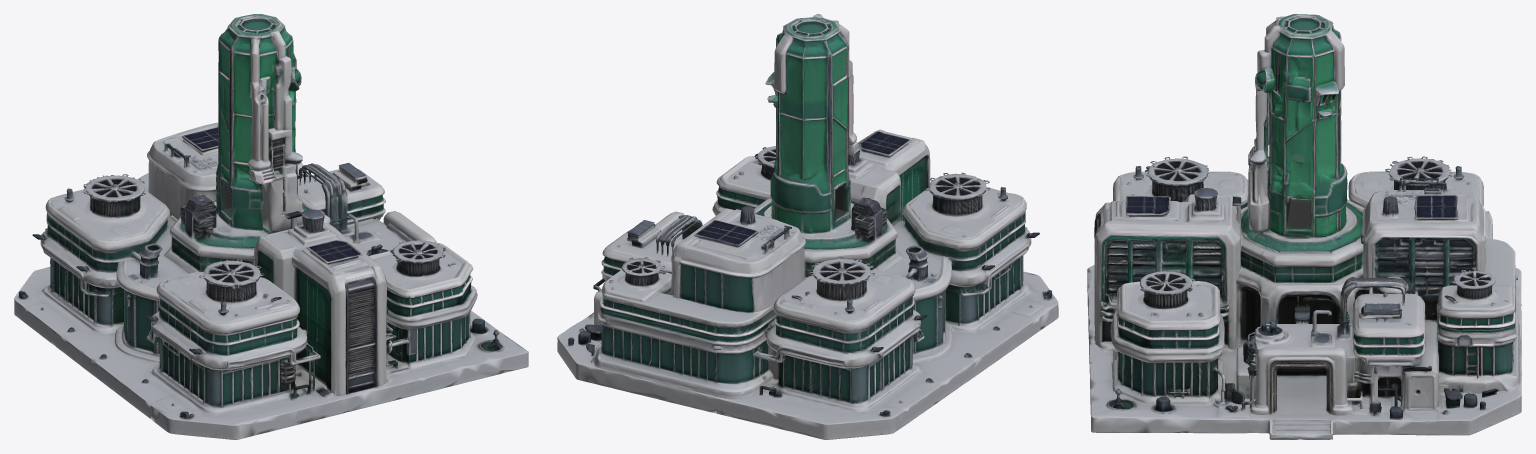
The model's file is closed-hq-web-v1.glb.
3 renders of one model, left to right at view 1: azimuth 30°, elevation 25°; view 2: azimuth 150°, elevation 25°; view 3: azimuth 270°, elevation 25°, orthographic. The views are drawn at different scales.
Visible parts, largest first — view 1: tripo_node_622c4574-0eec-436a-8c6b-c3d45ba8d006; view 2: tripo_node_622c4574-0eec-436a-8c6b-c3d45ba8d006; view 3: tripo_node_622c4574-0eec-436a-8c6b-c3d45ba8d006.
Part boxes in pixels (<box>): tripo_node_622c4574-0eec-436a-8c6b-c3d45ba8d006: <box>14,14,528,439</box>; tripo_node_622c4574-0eec-436a-8c6b-c3d45ba8d006: <box>557,14,1058,439</box>; tripo_node_622c4574-0eec-436a-8c6b-c3d45ba8d006: <box>1087,14,1521,439</box>.
Bounding box in the file's own units: 0.9668 × 0.8042 × 0.9797.
Materials: 1 (1 with a texture image).
